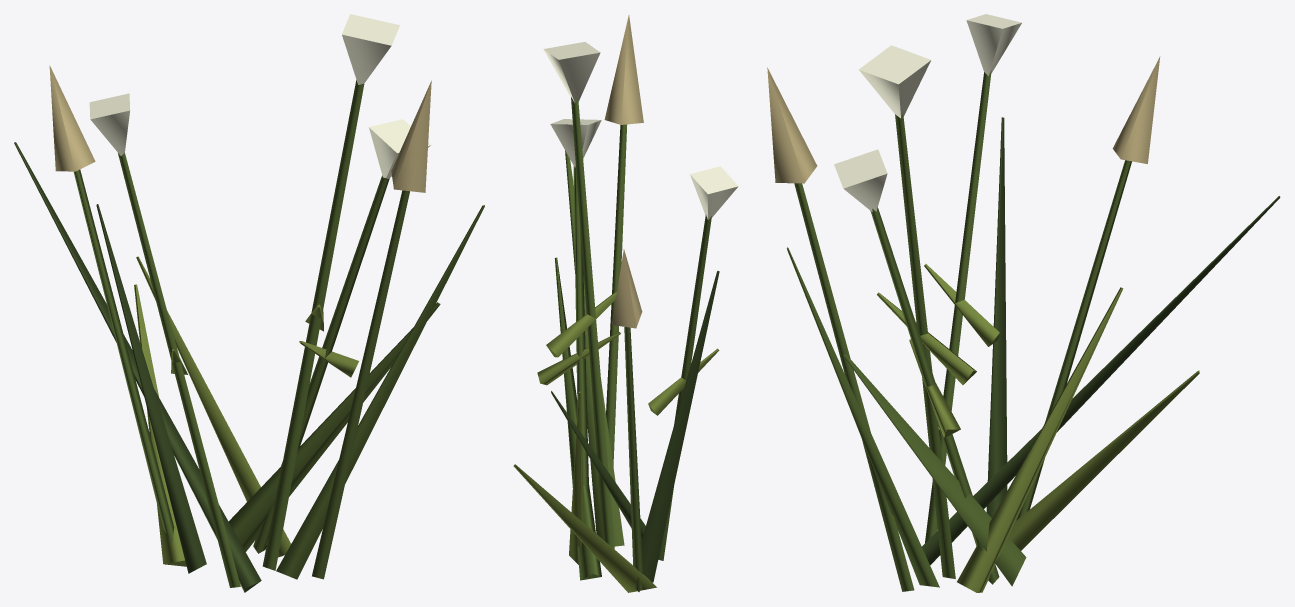
Rendered from wildflower-b.glb.
3 views of the same model, side by side, from view 1: azimuth 30°, elevation 25°; view 2: azimuth 150°, elevation 25°; view 3: azimuth 270°, elevation 25° (orthographic). The views are drawn at different scales.
Visible parts, largest first — view 1: Mesh_StemMesh_0, Mesh_BladeMesh_0, Mesh_BladeMesh_1, Mesh_BladeMesh_2, Mesh_WheatStem_0, Mesh_BladeMesh_3, Mesh_StemMesh_1, Mesh_WheatStem_1, Mesh_StemMesh_2, Mesh_BladeMesh_4, Mesh_FlowerHead_0, Mesh_WheatSeedhead_0 (+5 smaller); view 2: Mesh_StemMesh_0, Mesh_BladeMesh_1, Mesh_BladeMesh_0, Mesh_WheatStem_0, Mesh_BladeMesh_5, Mesh_BladeMesh_2, Mesh_WheatSeedhead_0, Mesh_StemMesh_2, Mesh_WheatStem_1, Mesh_FlowerHead_0, Mesh_StemMesh_1, Mesh_FlowerHead_1 (+7 smaller); view 3: Mesh_BladeMesh_4, Mesh_BladeMesh_3, Mesh_BladeMesh_1, Mesh_StemMesh_0, Mesh_BladeMesh_2, Mesh_BladeMesh_0, Mesh_BladeMesh_5, Mesh_WheatStem_0, Mesh_StemMesh_1, Mesh_FlowerHead_0, Mesh_WheatSeedhead_0, Mesh_StemMesh_2 (+7 smaller).
Part boxes in pixels (box(x1,y1,x2,y2)): Mesh_StemMesh_0: box(262, 80, 364, 570); Mesh_BladeMesh_0: box(276, 205, 484, 579); Mesh_BladeMesh_1: box(96, 204, 206, 573); Mesh_BladeMesh_2: box(228, 302, 440, 551); Mesh_WheatStem_0: box(312, 190, 409, 579); Mesh_BladeMesh_3: box(14, 142, 261, 592); Mesh_StemMesh_1: box(118, 153, 240, 587); Mesh_WheatStem_1: box(73, 169, 174, 543); Mesh_StemMesh_2: box(253, 175, 389, 553); Mesh_BladeMesh_4: box(136, 256, 290, 557); Mesh_FlowerHead_0: box(342, 14, 399, 84); Mesh_WheatSeedhead_0: box(391, 80, 431, 192); Mesh_StemMesh_0: box(571, 97, 614, 548); Mesh_BladeMesh_1: box(641, 271, 719, 582); Mesh_BladeMesh_0: box(565, 150, 624, 546); Mesh_WheatStem_0: box(606, 124, 627, 466); Mesh_BladeMesh_5: box(513, 464, 656, 592); Mesh_BladeMesh_2: box(554, 257, 601, 580); Mesh_WheatSeedhead_0: box(604, 15, 643, 124); Mesh_StemMesh_2: box(573, 165, 589, 494); Mesh_WheatStem_1: box(624, 327, 643, 591); Mesh_FlowerHead_0: box(543, 42, 600, 102); Mesh_StemMesh_1: box(658, 214, 711, 560); Mesh_FlowerHead_1: box(690, 166, 738, 219); Mesh_BladeMesh_4: box(957, 287, 1123, 592); Mesh_BladeMesh_3: box(922, 196, 1280, 565); Mesh_BladeMesh_1: box(986, 117, 1007, 517); Mesh_StemMesh_0: box(895, 113, 955, 579); Mesh_BladeMesh_2: box(843, 354, 1026, 586); Mesh_BladeMesh_0: box(787, 247, 939, 587); Mesh_BladeMesh_5: box(1008, 370, 1199, 550); Mesh_WheatStem_0: box(794, 183, 914, 591); Mesh_StemMesh_1: box(925, 70, 991, 542); Mesh_FlowerHead_0: box(858, 45, 931, 118); Mesh_WheatSeedhead_0: box(767, 67, 817, 183); Mesh_StemMesh_2: box(870, 207, 999, 584).
Size of the model in its own units: 0.3311 by 0.5892 by 0.4886.
